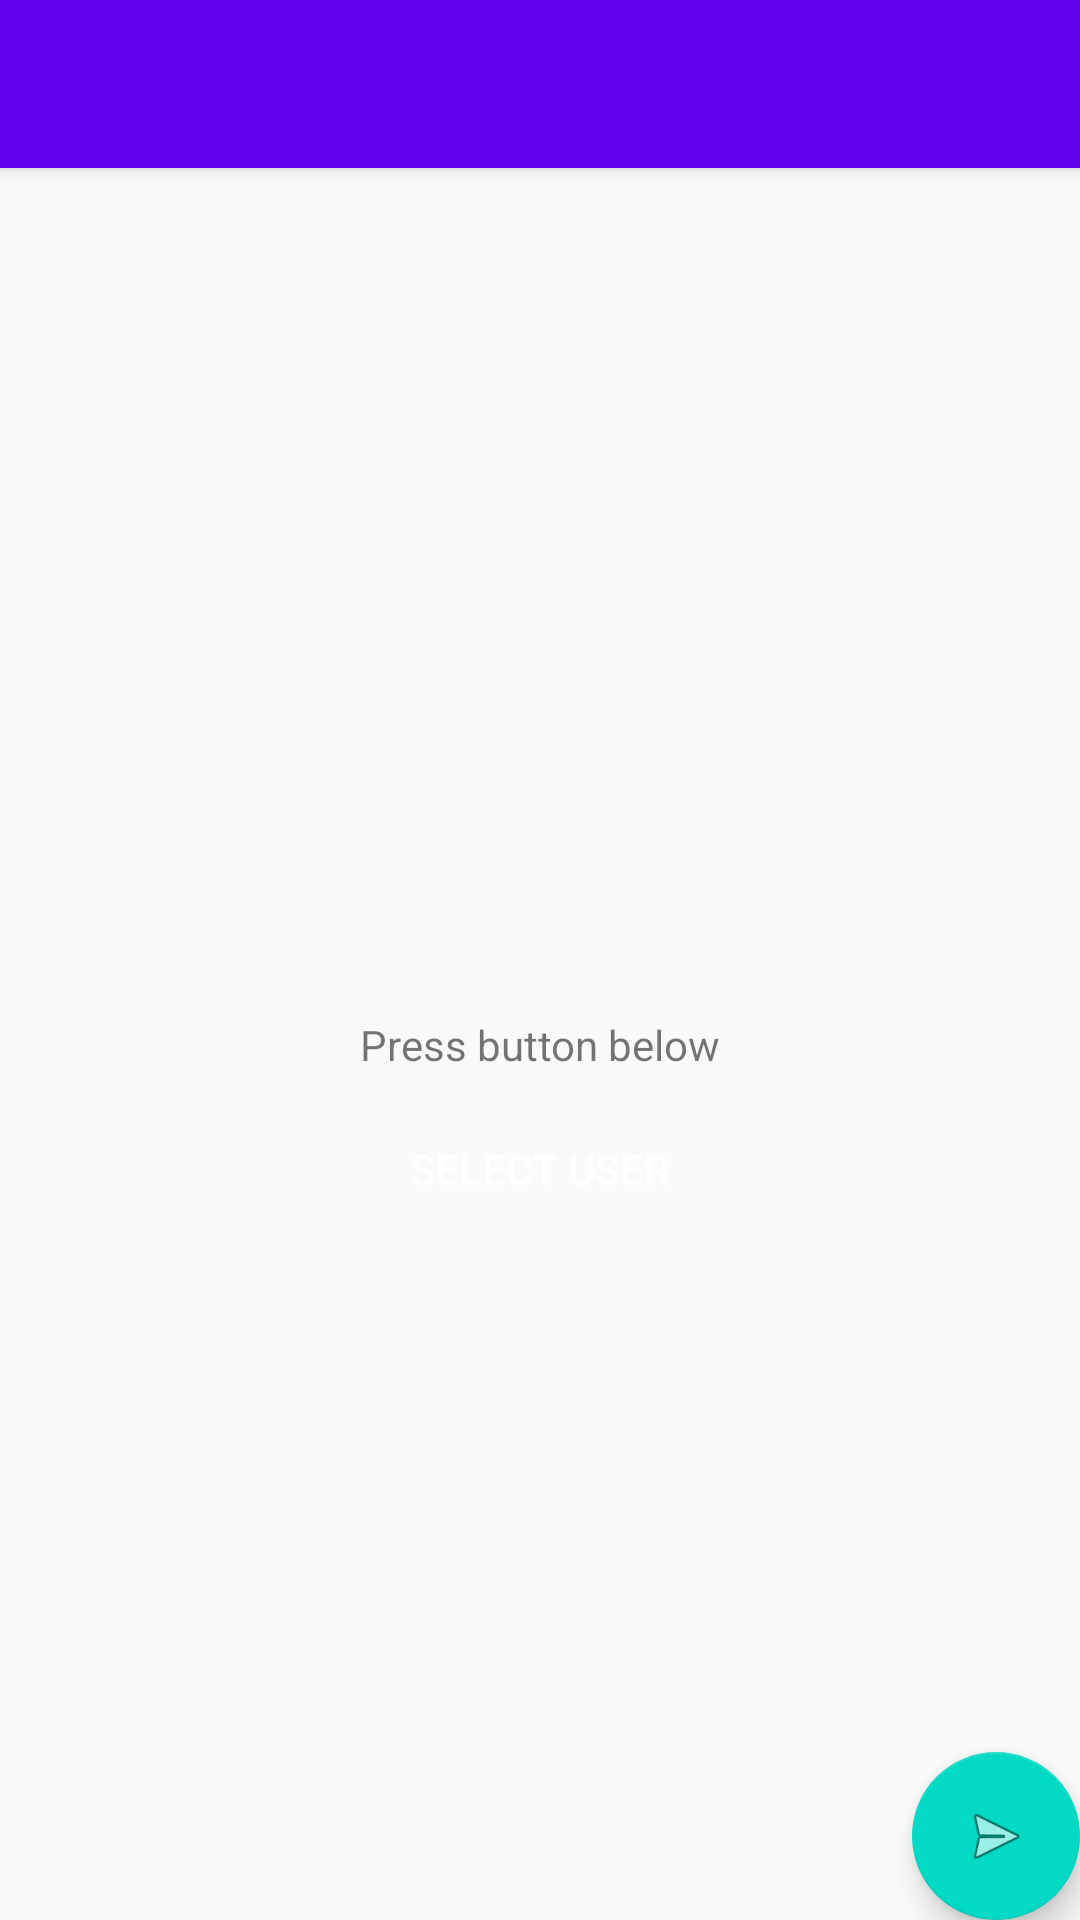

Icons on this 1080×1920 Android screen, each with its box as (x1, y1, x2, y2):
send: (912, 1752, 1080, 1920)
